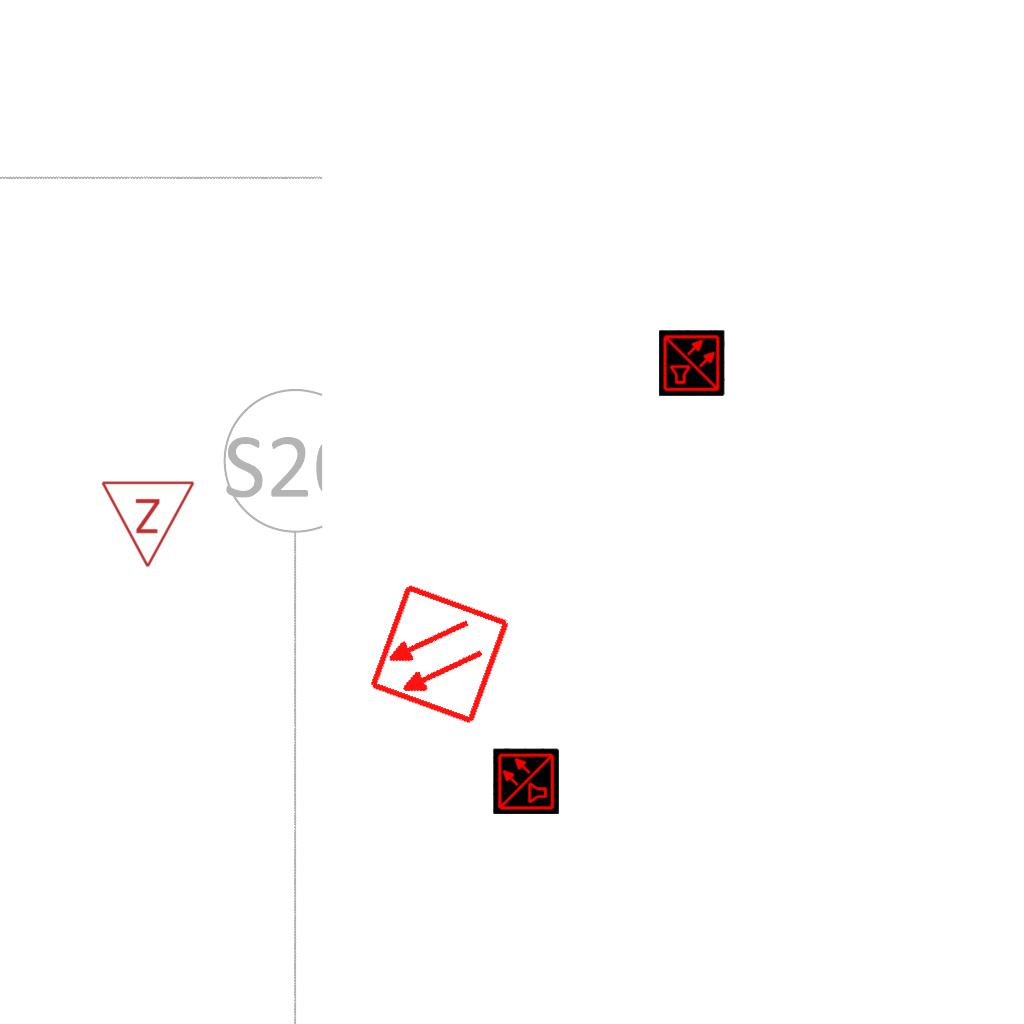OKW_Multisensormelder_(Kombination_optischer_Rauch-Kahlenmonoxid_Waerme-Melder): (493, 748, 559, 814), (659, 330, 725, 396)
RMO_Rauchmelder_optischer: (367, 582, 512, 727)
Zimmersignalleuchte: (100, 474, 198, 574)
